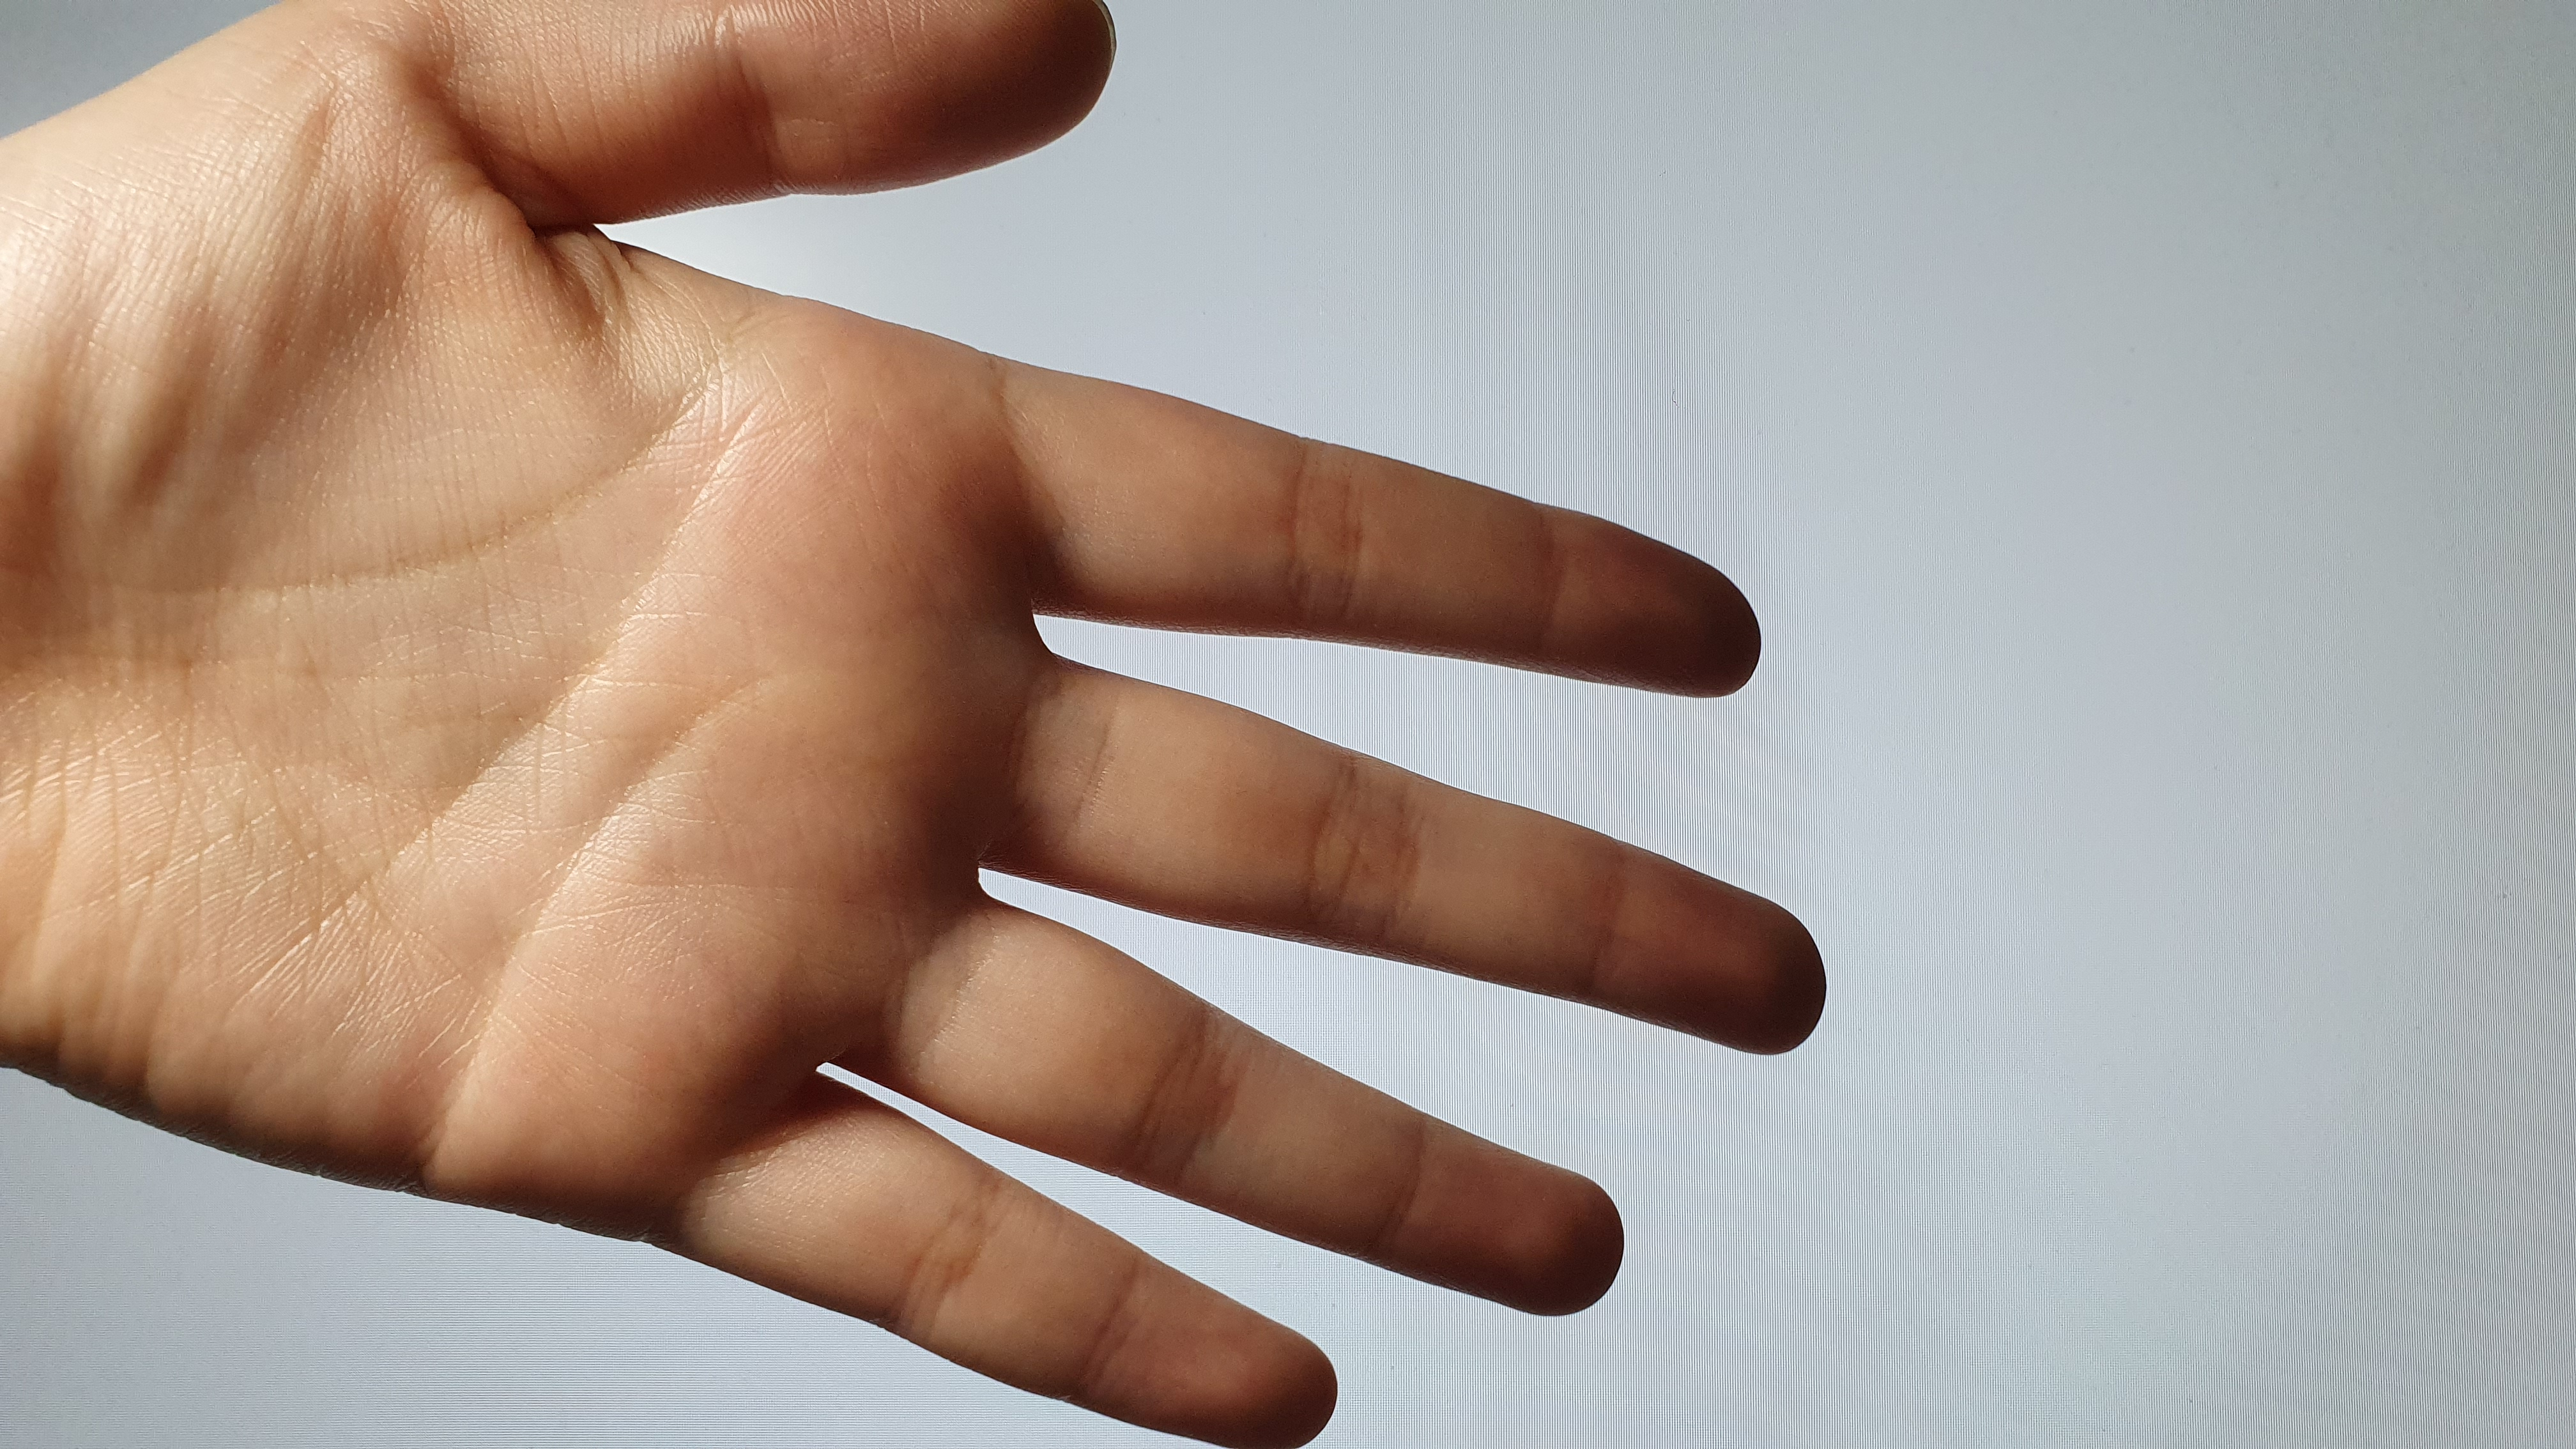hand: (25, 0, 1858, 1444)
index finger: (989, 349, 1771, 708)
middle finger: (973, 662, 1847, 1063)
palm: (14, 83, 1021, 1231)
pinky: (706, 1072, 1338, 1449)
ring finger: (863, 890, 1631, 1325)
thumb: (433, 0, 1129, 230)
